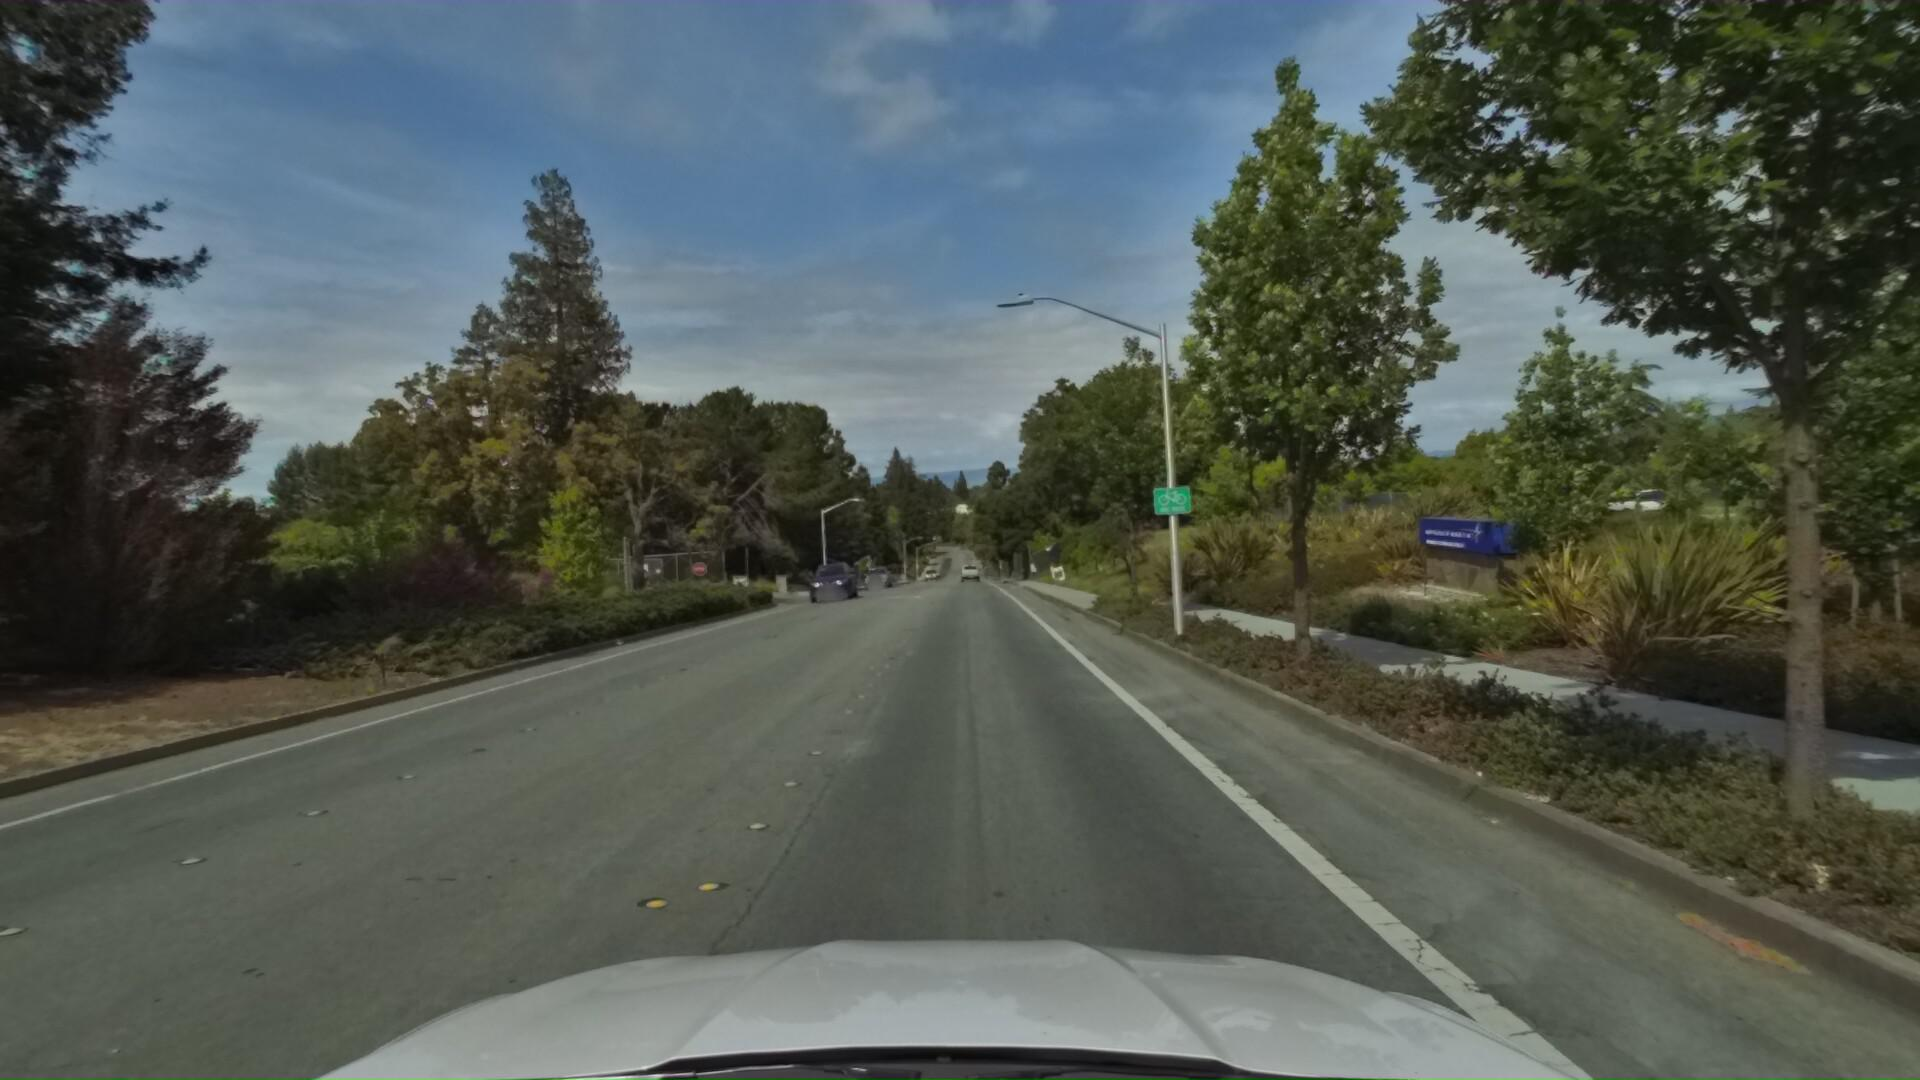car: (795, 562, 857, 615), (856, 564, 891, 597)
